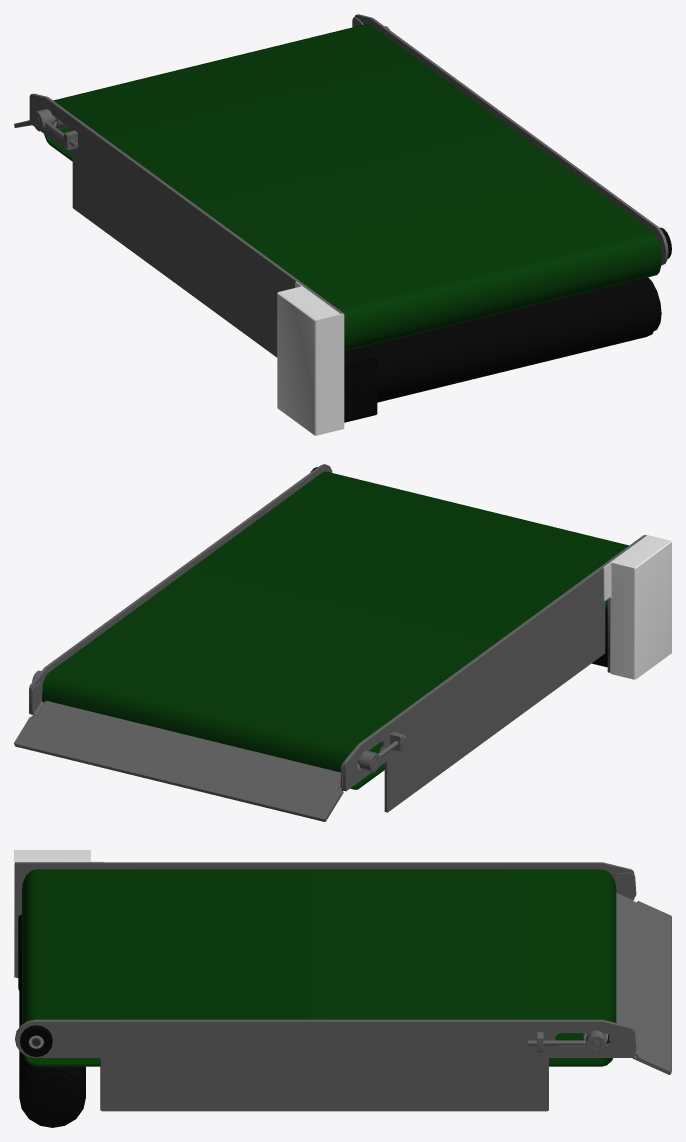
Rendered from Conveyor.FBX.
3 renders of one model, top to bottom at view 1: azimuth 30°, elevation 25°; view 2: azimuth 150°, elevation 25°; view 3: azimuth 270°, elevation 25°, orthographic. The views are drawn at different scales.
Visible parts, largest first — view 1: Conveyor; view 2: Conveyor; view 3: Conveyor.
Boxes of the visible parts, x1,y1,x2,y2 form: Conveyor: (14, 14, 671, 435); Conveyor: (14, 464, 671, 821); Conveyor: (14, 850, 671, 1127).
Size of the model in its own units: 491 by 148 by 770.
